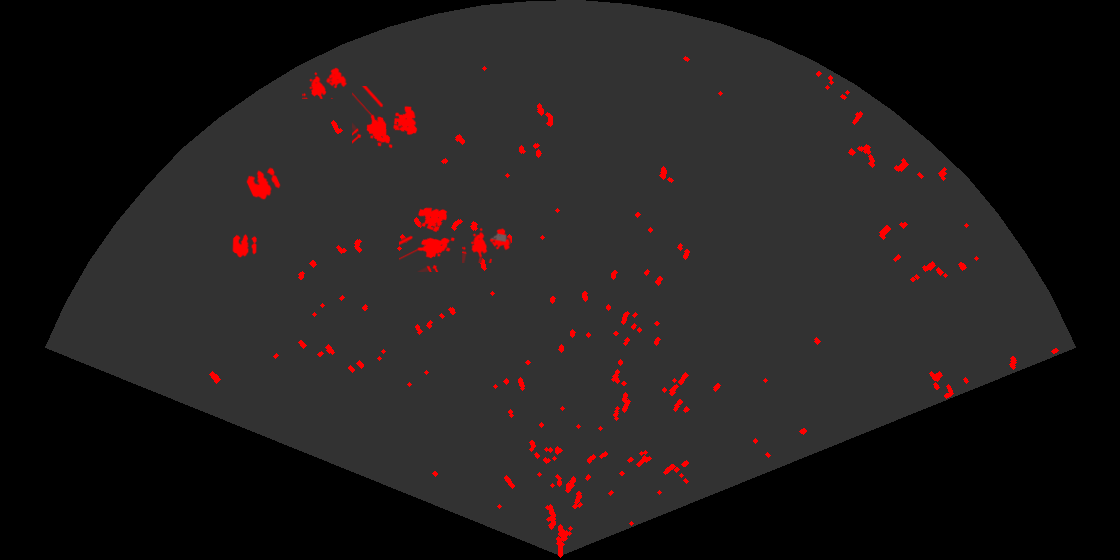ball: (245, 166, 282, 201), (231, 232, 258, 259)
cage: (352, 86, 419, 150), (399, 206, 456, 272), (462, 226, 512, 263), (302, 66, 349, 99)
